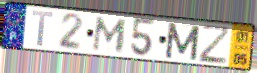2: (57, 12, 84, 53)
5: (129, 16, 158, 60)
M: (163, 21, 202, 62), (90, 15, 129, 54)
T: (31, 9, 55, 48)
Z: (199, 24, 232, 66)
